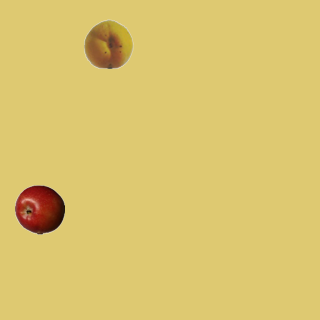Apple Braeburn: (14, 184, 64, 234)
Peach 2: (83, 18, 133, 68)
